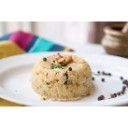venpongal: (34, 56, 96, 103)
